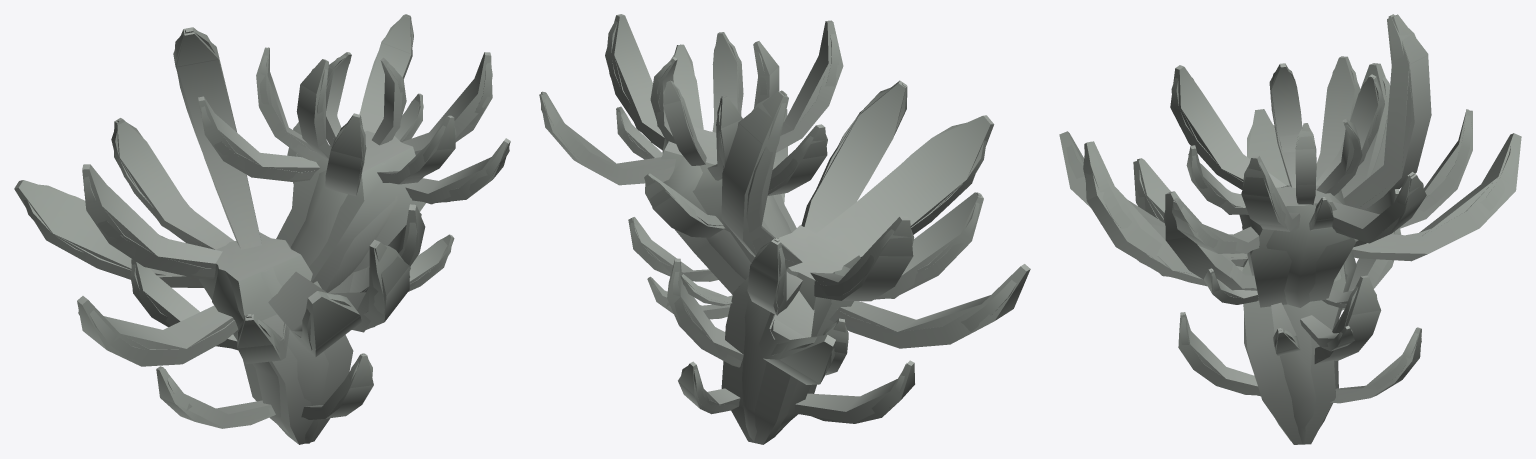
File: Env_plant03_LOD_Mesh.fbx
The picture shows the model from 3 angles, left to right: view 1: azimuth 30°, elevation 25°; view 2: azimuth 150°, elevation 25°; view 3: azimuth 270°, elevation 25°; orthographic projection.
Visible parts, largest first — view 1: Env_plant03_LOD3_Mesh, Env_plant03_LOD2_Mesh, Env_plant03_LOD1_Mesh; view 2: Env_plant03_LOD3_Mesh, Env_plant03_LOD2_Mesh, Env_plant03_LOD1_Mesh; view 3: Env_plant03_LOD3_Mesh, Env_plant03_LOD2_Mesh, Env_plant03_LOD1_Mesh.
Boxes of the visible parts, x1=… form: Env_plant03_LOD3_Mesh: x1=14, y1=14, x2=510, y2=444; Env_plant03_LOD2_Mesh: x1=46, y1=19, x2=492, y2=431; Env_plant03_LOD1_Mesh: x1=23, y1=14, x2=509, y2=443; Env_plant03_LOD3_Mesh: x1=539, y1=14, x2=1030, y2=444; Env_plant03_LOD2_Mesh: x1=539, y1=55, x2=994, y2=432; Env_plant03_LOD1_Mesh: x1=541, y1=15, x2=1016, y2=441; Env_plant03_LOD3_Mesh: x1=1059, y1=14, x2=1521, y2=444; Env_plant03_LOD2_Mesh: x1=1070, y1=14, x2=1515, y2=444; Env_plant03_LOD1_Mesh: x1=1066, y1=14, x2=1518, y2=442.
Bounding box in the file's own units: 143 × 130 × 138.
